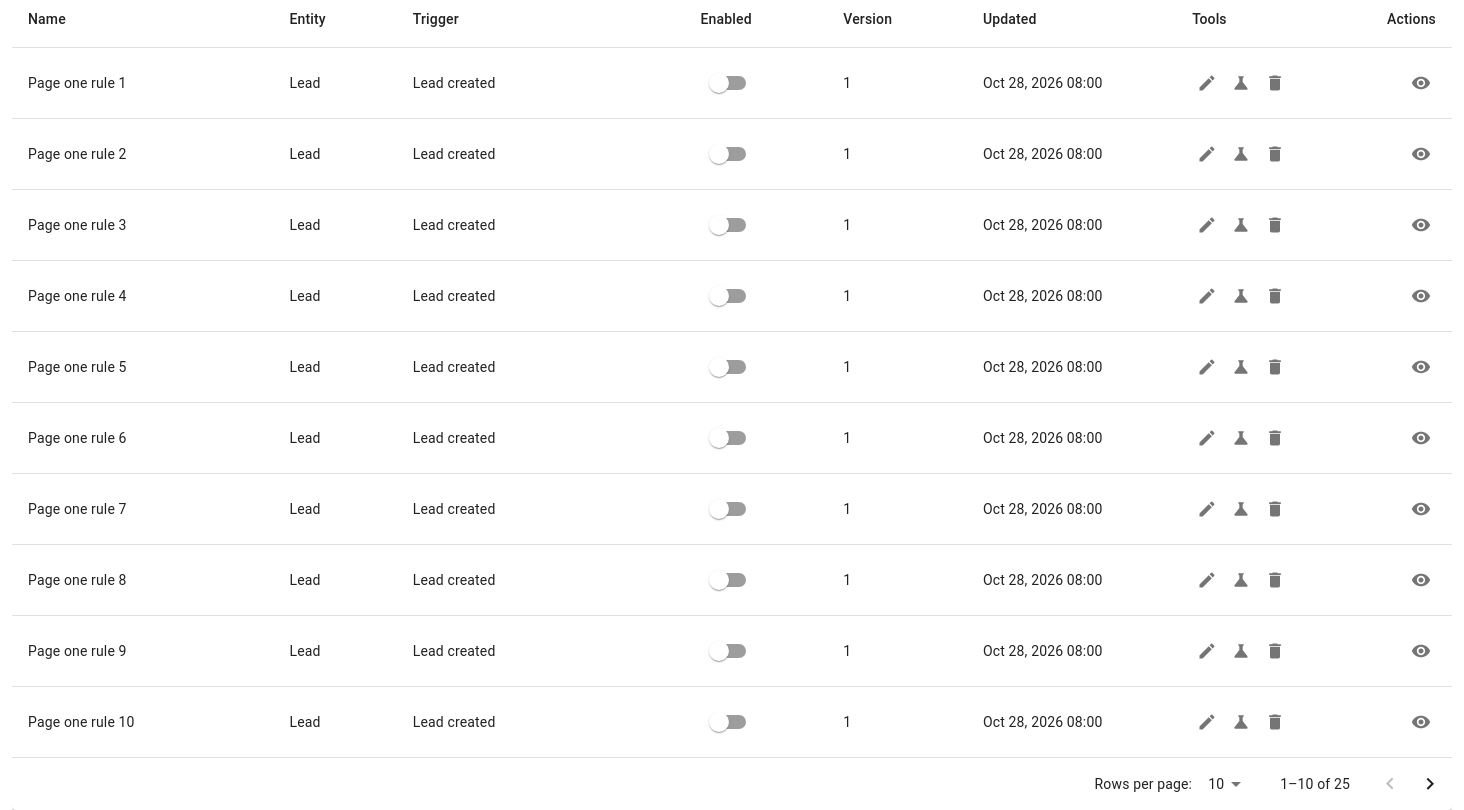
Test: AutomationRuleList › pages with Next and page size: offset follows the zero-based table page and a size change resets to the first page
The width and height of the screenshot is (1464, 810).
(page scrolled)
Click the button named "next page" at (1430, 784), box x1=1410 y1=764 x2=1450 y2=804
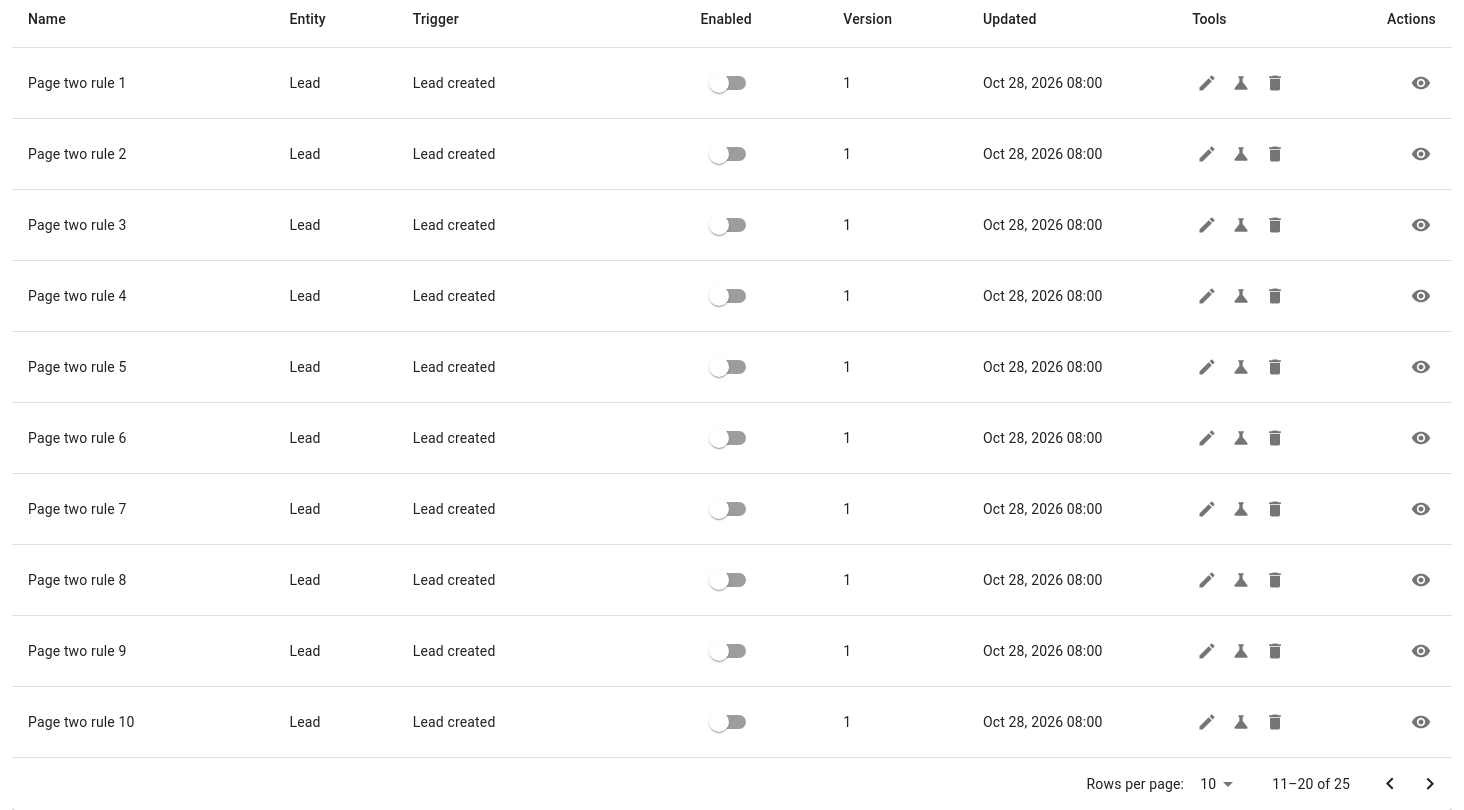
Expected: the text "Page two rule 1" is shown, x1=12 y1=48 x2=274 y2=119
Press the mouse on the dropdown named "rows per page" at (1208, 784), box x1=1200 y1=776 x2=1216 y2=792
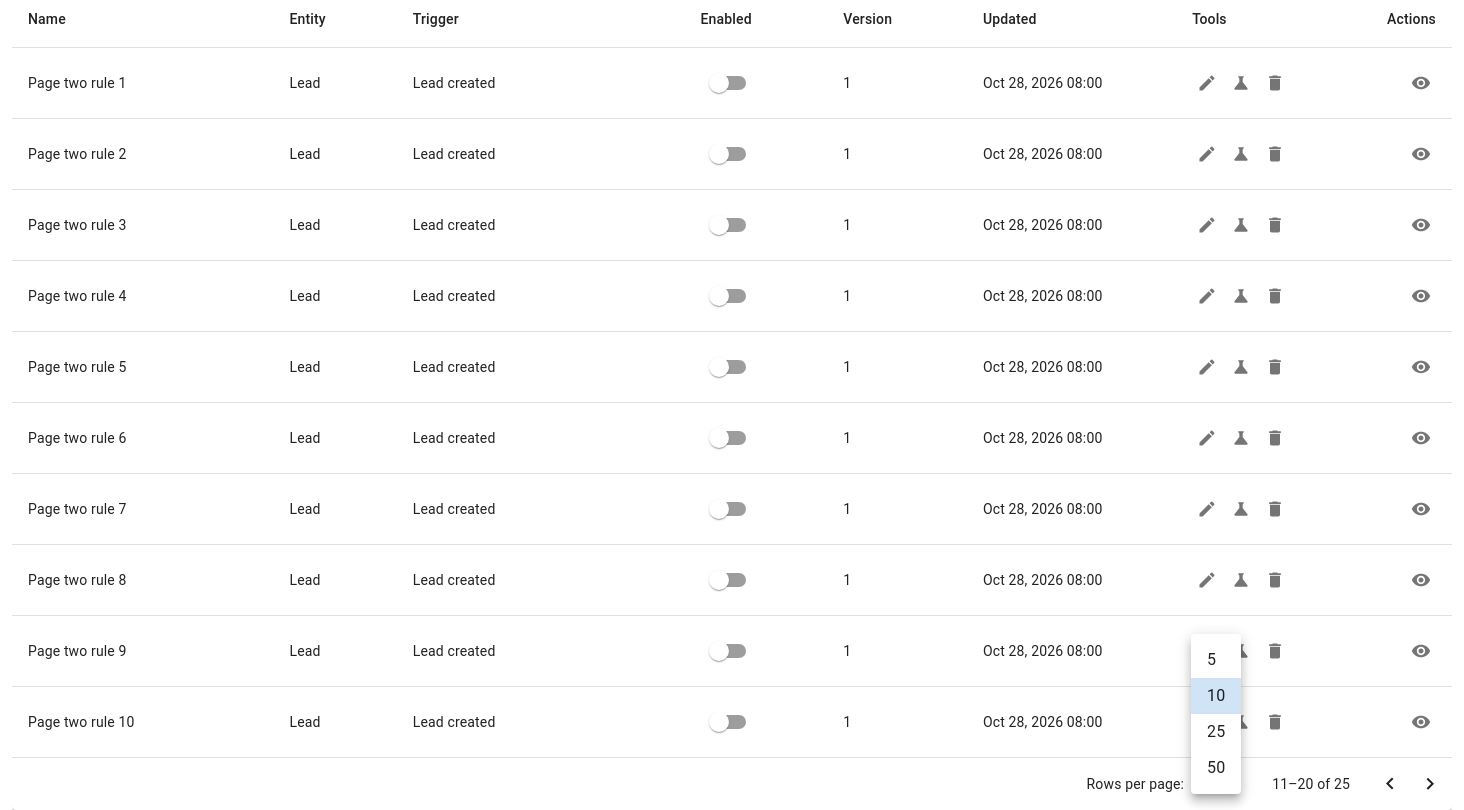
Click the option "25" at (1216, 732), box x1=1207 y1=722 x2=1225 y2=741
(page scrolled)
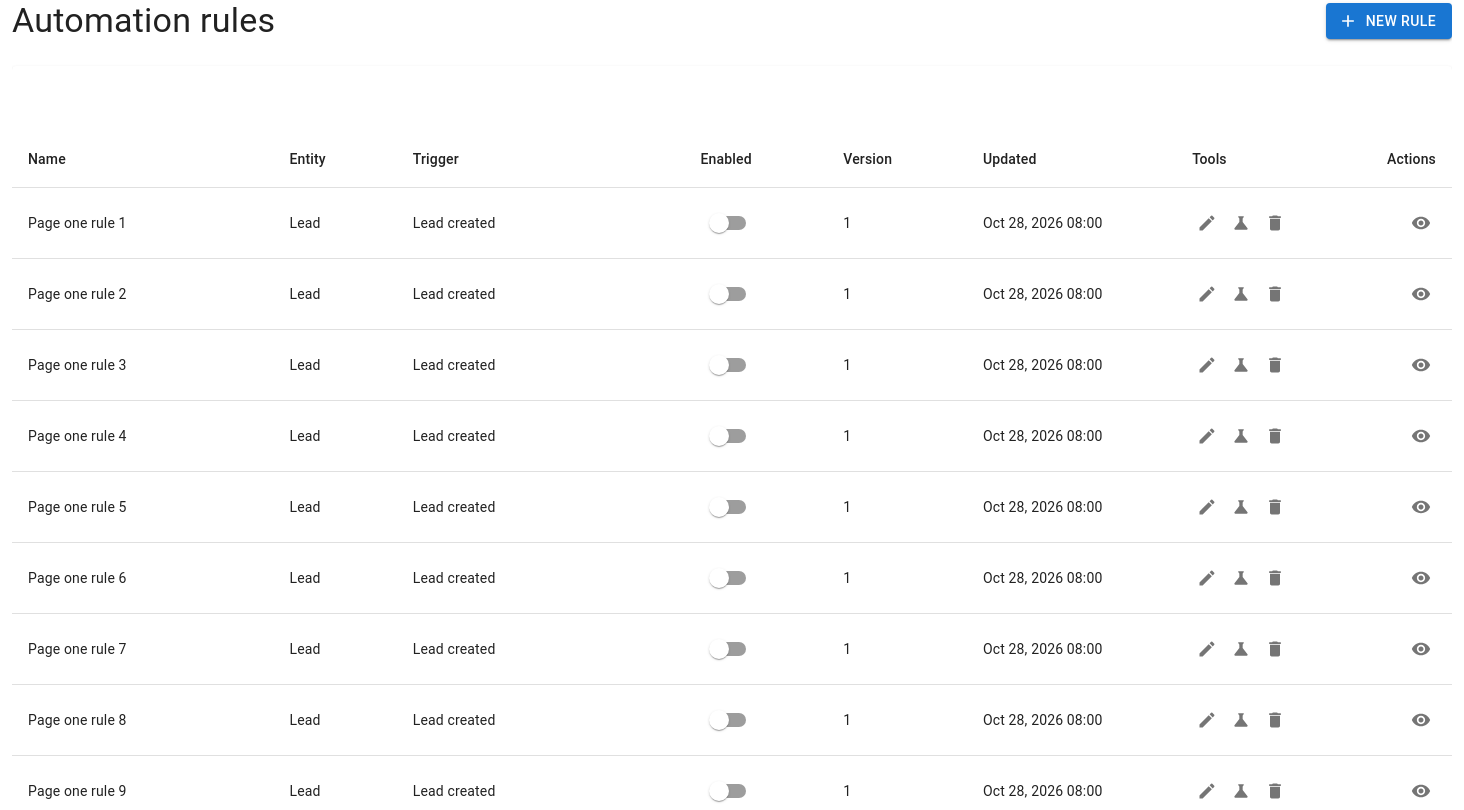
Expected: the text "Page one rule 1" is shown, x1=12 y1=188 x2=274 y2=259
